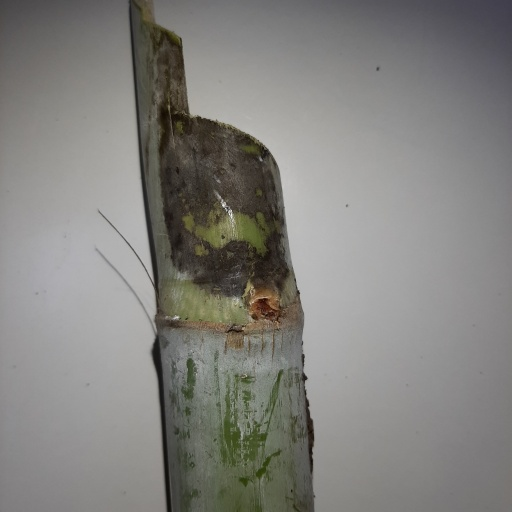Damage_Bud: (246, 288, 283, 321)
